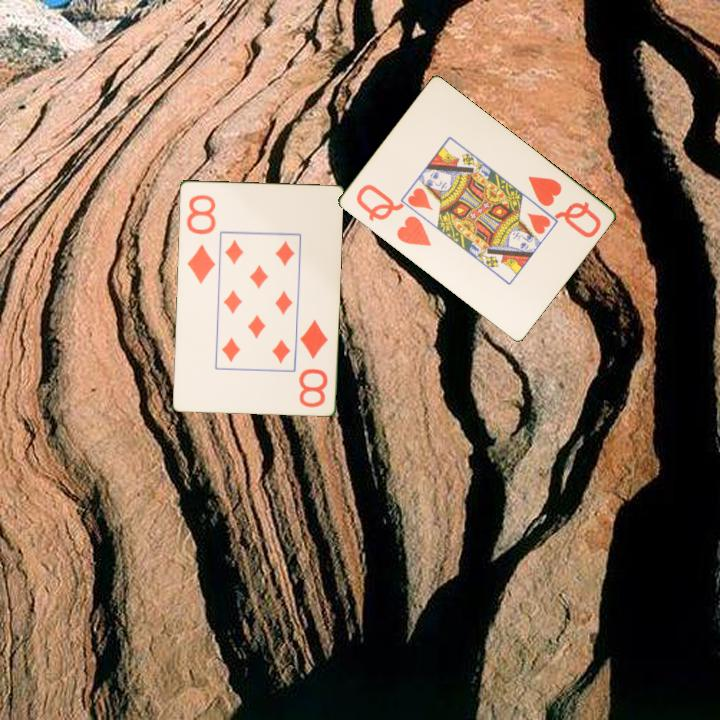8d: (183, 191, 218, 286), (295, 316, 330, 410)
Qh: (352, 181, 434, 249), (524, 172, 604, 241)
